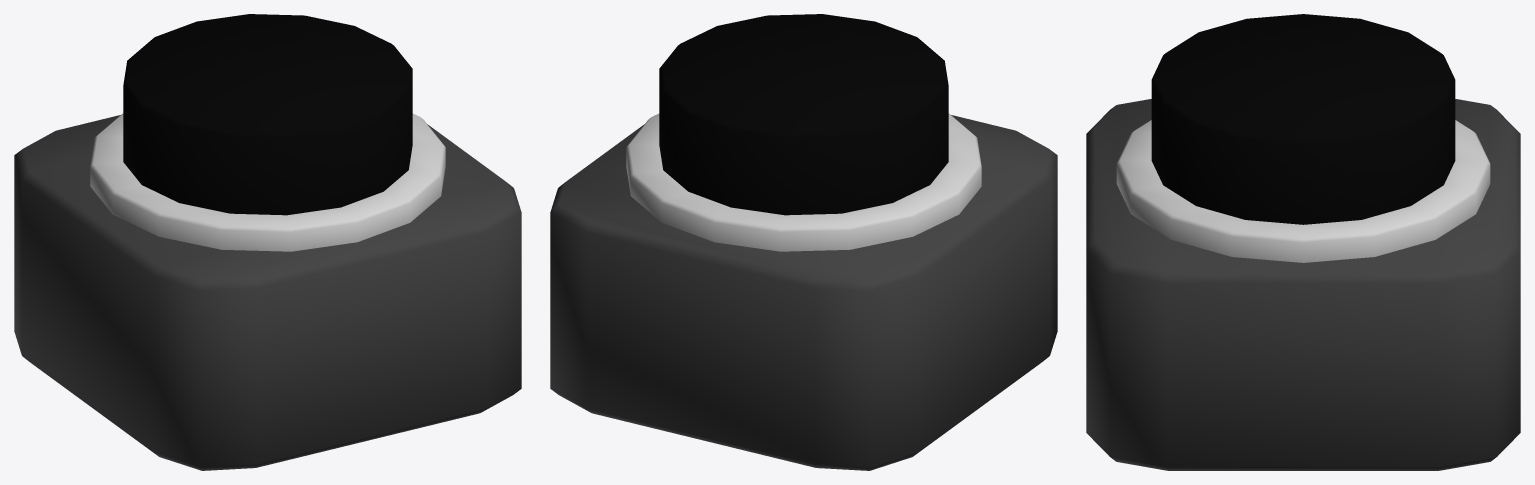
File: Switch.fbx
3 views of the same model, side by side, from view 1: azimuth 30°, elevation 25°; view 2: azimuth 150°, elevation 25°; view 3: azimuth 270°, elevation 25° (orthographic). The views are drawn at different scales.
Parts seen in each view (by area): view 1: Switch; view 2: Switch; view 3: Switch.
Boxes of the visible parts, x1,y1,x2,y2 form: Switch: (14, 14, 521, 470); Switch: (550, 14, 1057, 470); Switch: (1086, 14, 1520, 470).
Bounding box in the file's own units: 48.88 × 38.01 × 48.88.
